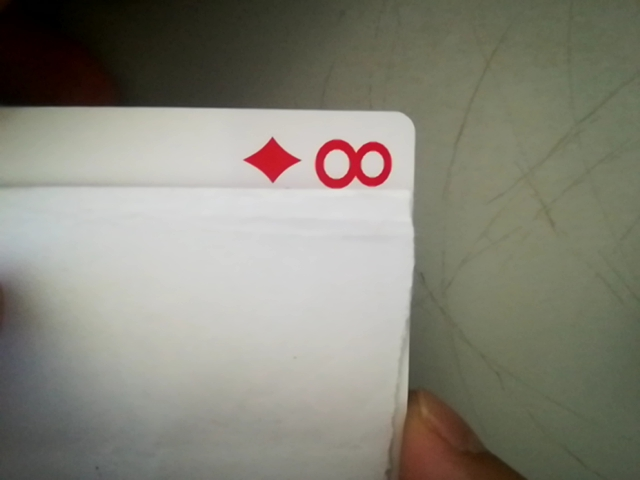fk 8: (264, 130, 406, 196)
